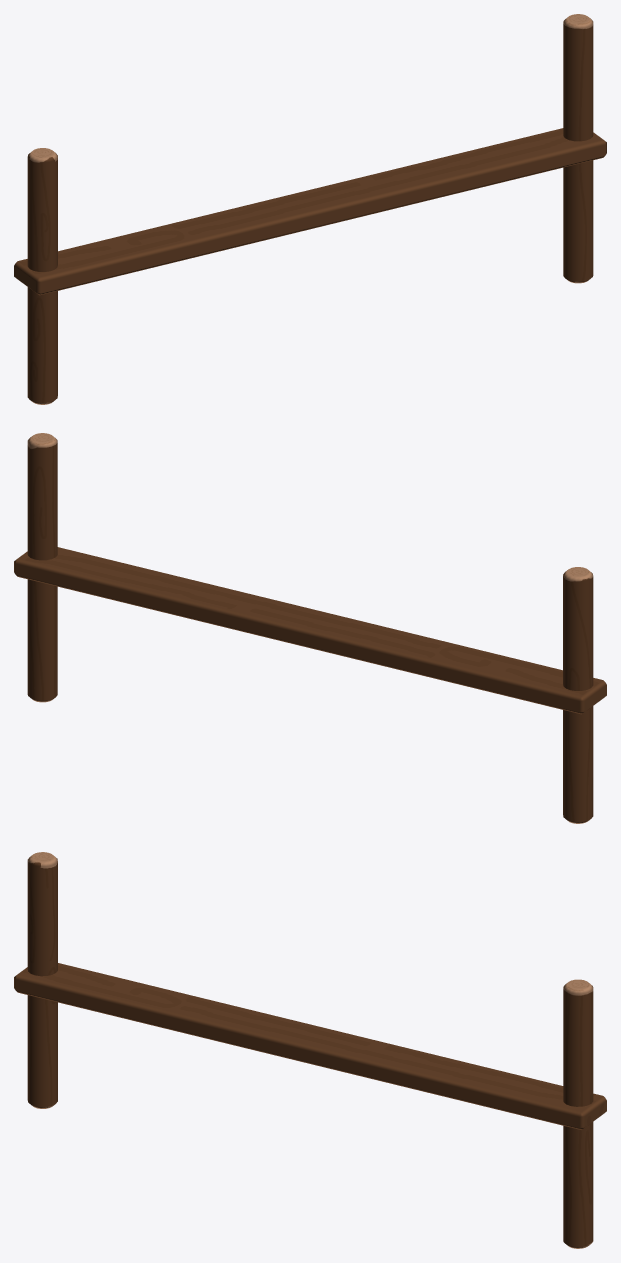
The model's file is M_Wide_Suport_1.fbx.
3 views of the same model, one above another, from view 1: azimuth 30°, elevation 25°; view 2: azimuth 150°, elevation 25°; view 3: azimuth 330°, elevation 25° (orthographic).
Parts seen in each view (by area): view 1: M_Wide_Suport_1; view 2: M_Wide_Suport_1; view 3: M_Wide_Suport_1.
Boxes of the visible parts, x1=… form: M_Wide_Suport_1: x1=14, y1=14, x2=606, y2=404; M_Wide_Suport_1: x1=14, y1=433, x2=606, y2=823; M_Wide_Suport_1: x1=14, y1=852, x2=606, y2=1248.
Bounding box in the file's own units: 800 × 348 × 63.13.
